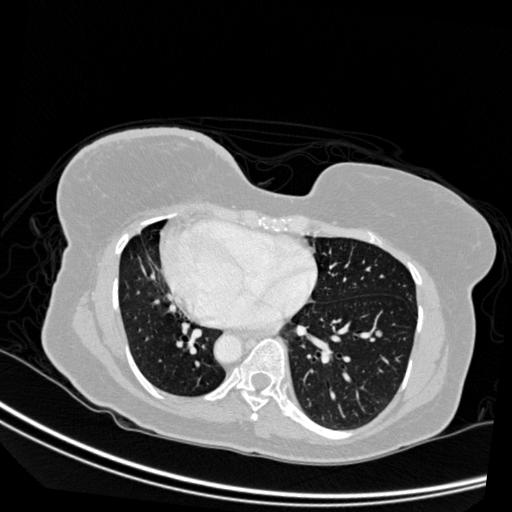nodule: (375, 328, 388, 341)
